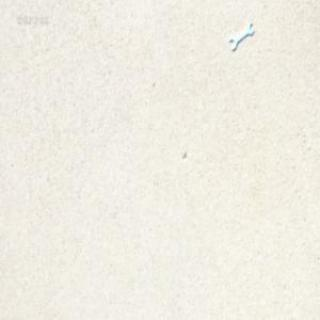Wrenchtrack_idkeyframe: (224, 23, 252, 52)
